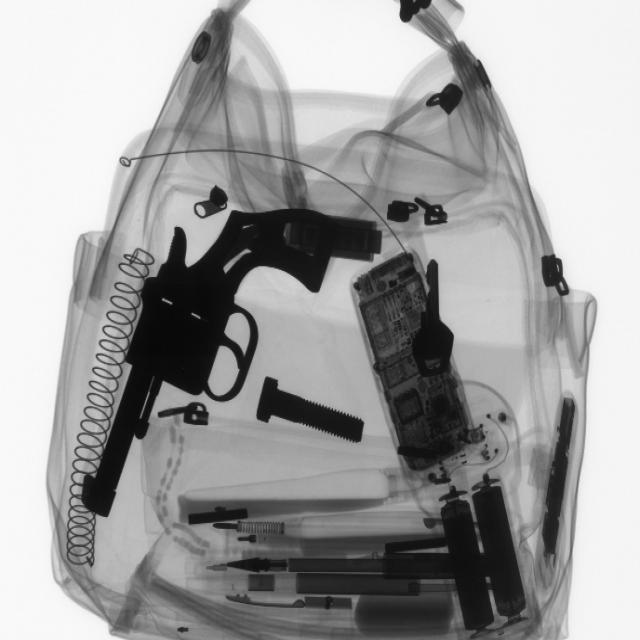GUN: (75, 211, 356, 508)
